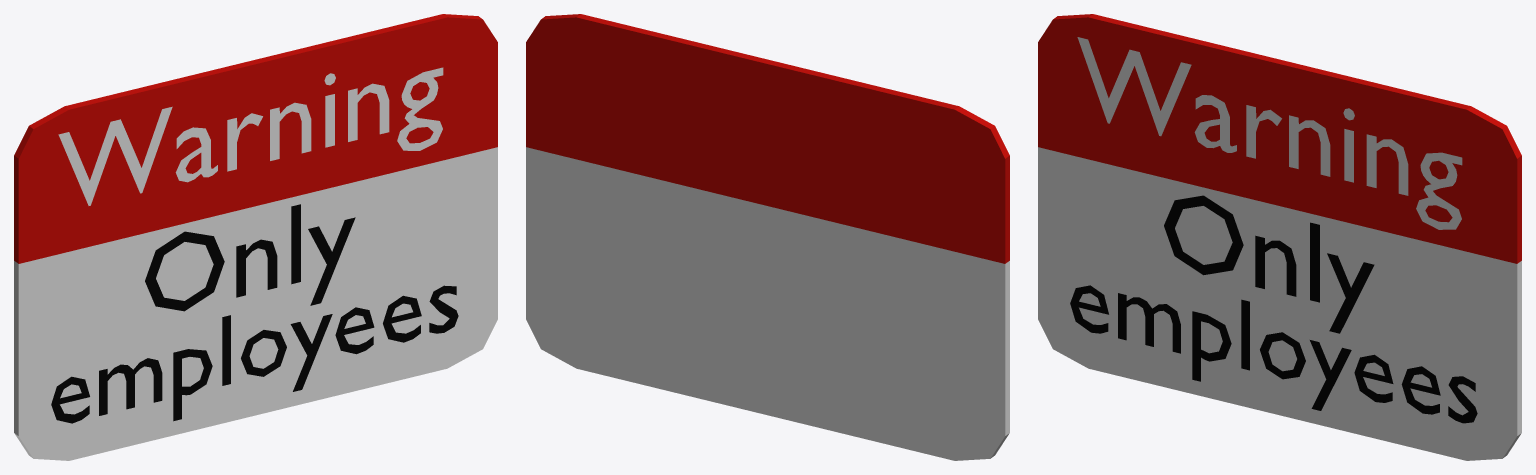
The model's file is Ma_Warning_Sign.fbx.
The picture shows the model from 3 angles, left to right: view 1: azimuth 30°, elevation 25°; view 2: azimuth 150°, elevation 25°; view 3: azimuth 330°, elevation 25°; orthographic projection.
Visible parts, largest first — view 1: Ma_Warning_Sign; view 2: Ma_Warning_Sign; view 3: Ma_Warning_Sign.
Part boxes in pixels (<box>): Ma_Warning_Sign: <box>14,14,497,460</box>; Ma_Warning_Sign: <box>526,14,1009,460</box>; Ma_Warning_Sign: <box>1038,14,1521,460</box>.
Size of the model in its own units: 299 by 5.25 by 210.
